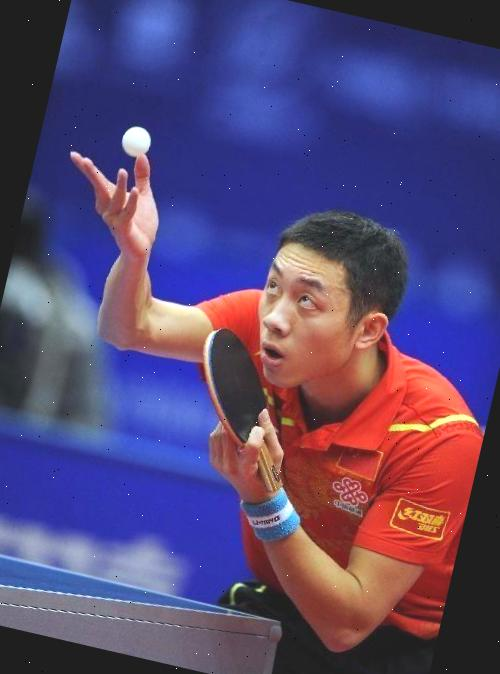ball: (112, 116, 160, 163)
